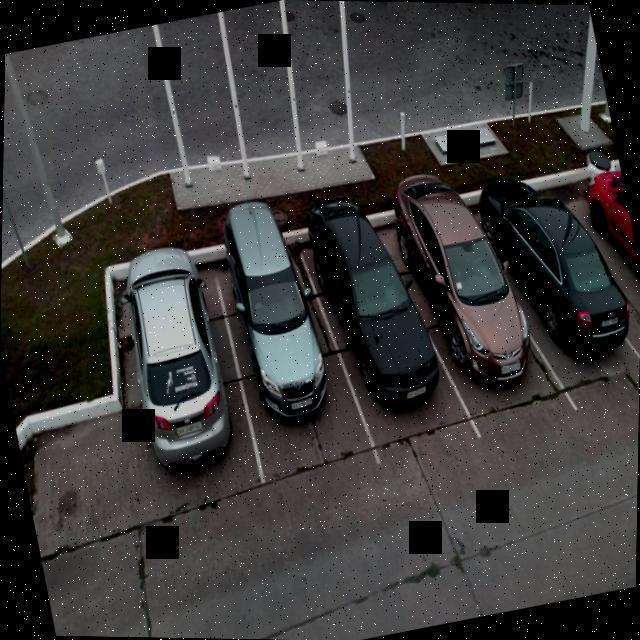space-occupied: (293, 201, 475, 470), (369, 182, 551, 439), (205, 235, 374, 483), (98, 257, 261, 505), (473, 174, 638, 407), (557, 148, 640, 384)
